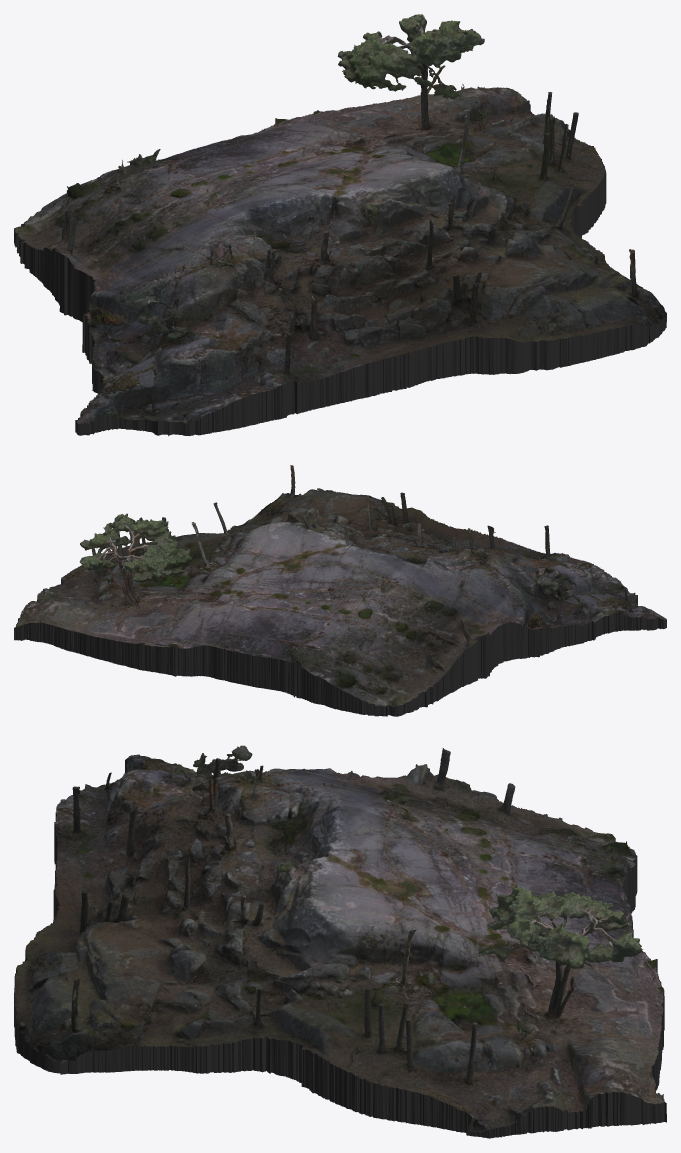
File: sceen_4_pengundulan_hutan.glb
The picture shows the model from 3 angles, top to bottom: view 1: azimuth 30°, elevation 25°; view 2: azimuth 150°, elevation 25°; view 3: azimuth 270°, elevation 25°; orthographic projection. The views are drawn at different scales.
Visible parts, largest first — view 1: Object_4, Object_2; view 2: Object_4, Object_2; view 3: Object_4, Object_2.
Part boxes in pixels (box(x1,y1,x2,y2)): Object_4: box(14, 14, 666, 424); Object_2: box(14, 86, 666, 436); Object_4: box(16, 465, 666, 706); Object_2: box(14, 507, 666, 716); Object_4: box(14, 745, 664, 1132); Object_2: box(14, 754, 666, 1138).
Size of the model in its own units: 31.53 by 6.55 by 23.48.
Materials: 2 (1 with a texture image).
